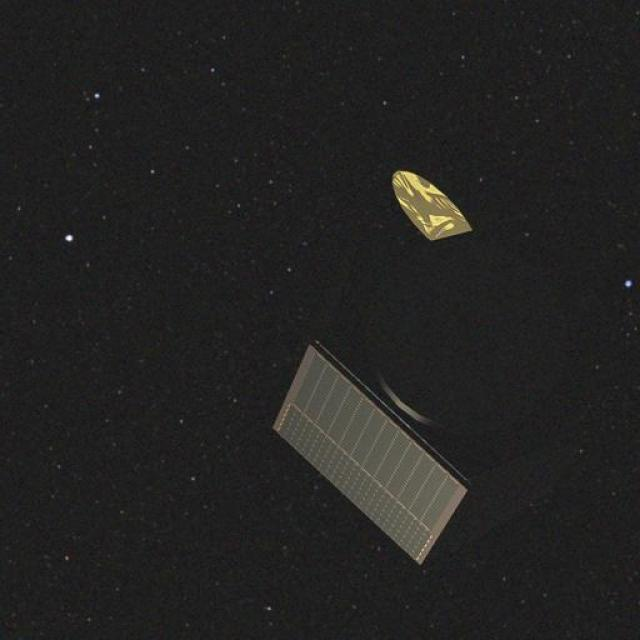cheops: (246, 144, 555, 561)
